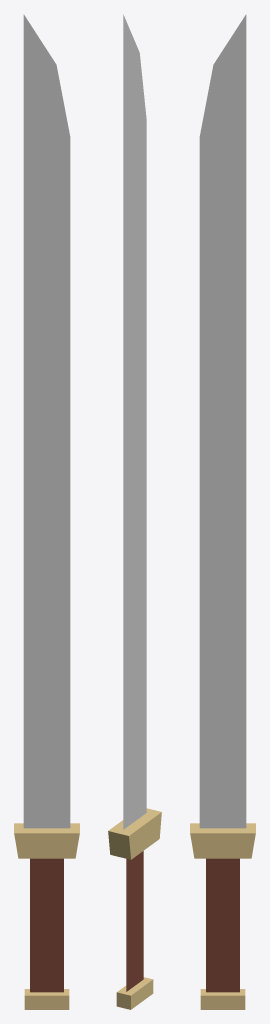
The model's file is sword01.fbx.
3 views of the same model, side by side, from view 1: azimuth 90°, elevation 25°; view 2: azimuth 150°, elevation 25°; view 3: azimuth 270°, elevation 25° (orthographic).
Parts seen in each view (by area): view 1: Cube; view 2: Cube; view 3: Cube.
Boxes of the visible parts, left/top/right/bottom form: Cube: left=14, top=14, right=79, bottom=1009; Cube: left=108, top=14, right=161, bottom=1009; Cube: left=190, top=14, right=255, bottom=1009.
Bounding box in the file's own units: 31.16 × 1419 × 85.19.
